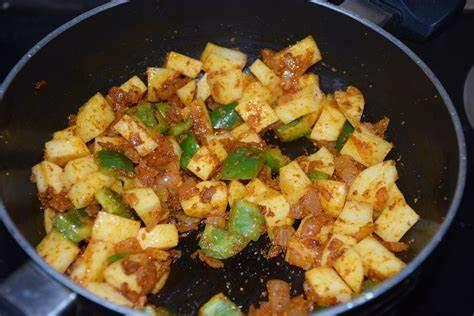AlooMasala: (33, 37, 420, 316)
